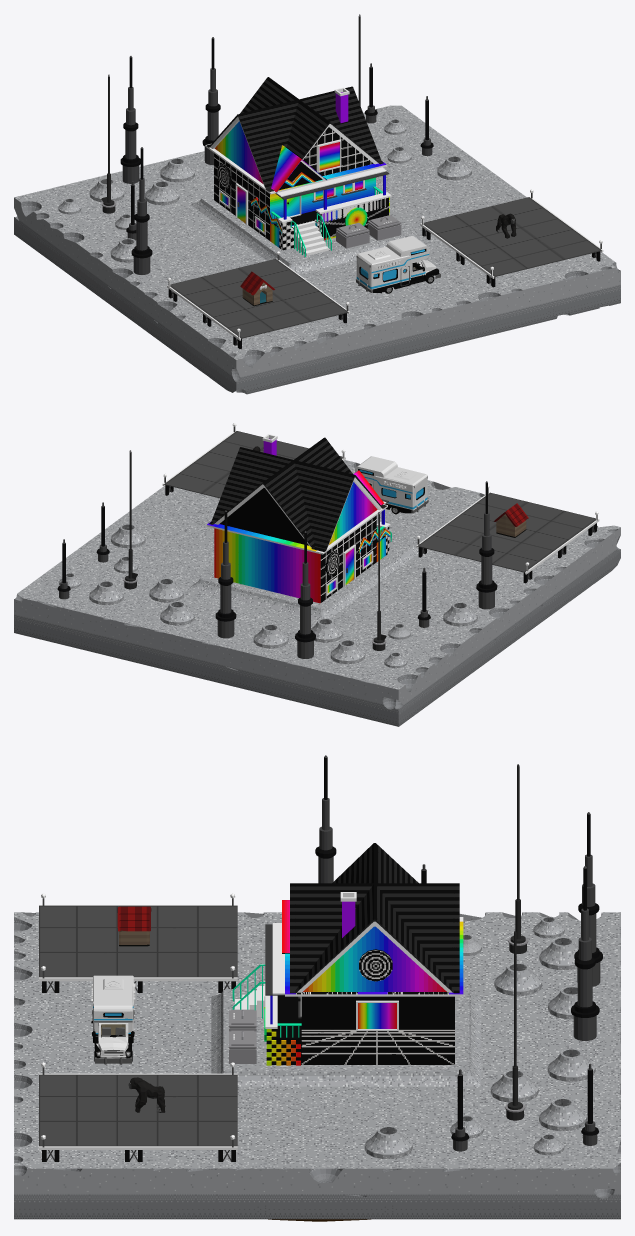
3 views of the same model, one above another, from view 1: azimuth 30°, elevation 25°; view 2: azimuth 150°, elevation 25°; view 3: azimuth 270°, elevation 25° (orthographic). The views are drawn at different scales.
Parts seen in each view (by area): view 1: Cube.027, Cube.1320, Cube.026, Cube.025, Cube.028, VEHICLES_CAMPER, Cylinder.021, Cylinder.020, Cylinder.017, OBJRANDOM_DOGHOUSE, Cube.029, Cube.030 (+4 smaller); view 2: Cube.027, Cube.1320, Cube.025, Cube.028, Cube.026, VEHICLES_CAMPER, Cylinder.017, Cylinder.021, Cylinder.020, OBJRANDOM_DOGHOUSE, Cylinder.027, Cylinder.029 (+8 smaller); view 3: Cube.027, Cube.1320, Cube.026, Cube.025, Cube.028, VEHICLES_CAMPER, Cylinder.017, Cylinder.020, OBJRANDOM_DOGHOUSE, Cylinder.021, Cylinder.033, Cylinder.031 (+11 smaller).
Part boxes in pixels (x1,y1,x2,y2): Cube.027: [14, 105, 620, 394]; Cube.1320: [205, 77, 391, 256]; Cube.026: [420, 189, 603, 287]; Cube.025: [167, 251, 349, 348]; Cube.028: [191, 195, 424, 273]; VEHICLES_CAMPER: [356, 236, 440, 293]; Cylinder.021: [131, 147, 152, 274]; Cylinder.020: [120, 56, 140, 183]; Cylinder.017: [202, 37, 220, 165]; OBJRANDOM_DOGHOUSE: [240, 271, 274, 306]; Cube.029: [336, 222, 369, 248]; Cube.030: [367, 215, 401, 240]; Cube.027: [14, 460, 620, 726]; Cube.1320: [206, 434, 391, 603]; Cube.025: [416, 485, 599, 583]; Cube.028: [189, 537, 418, 620]; Cube.026: [162, 423, 345, 498]; VEHICLES_CAMPER: [355, 456, 428, 514]; Cylinder.017: [215, 510, 236, 638]; Cylinder.021: [476, 481, 497, 609]; Cylinder.020: [295, 531, 315, 658]; OBJRANDOM_DOGHOUSE: [494, 503, 528, 537]; Cylinder.027: [253, 624, 288, 648]; Cylinder.029: [160, 601, 194, 625]; Cube.027: [14, 912, 620, 1219]; Cube.1320: [232, 843, 463, 1065]; Cube.026: [39, 1062, 237, 1161]; Cube.025: [39, 893, 237, 992]; Cube.028: [211, 989, 481, 1086]; VEHICLES_CAMPER: [91, 975, 135, 1064]; Cylinder.017: [571, 866, 599, 1040]; Cylinder.020: [574, 812, 602, 986]; OBJRANDOM_DOGHOUSE: [117, 906, 151, 946]; Cylinder.021: [315, 755, 336, 883]; Cylinder.033: [364, 1126, 412, 1158]; Cylinder.031: [539, 1098, 586, 1130].
Bounding box in the file's own units: 4000 × 1865 × 4000.
37 materials, 6 textured.
